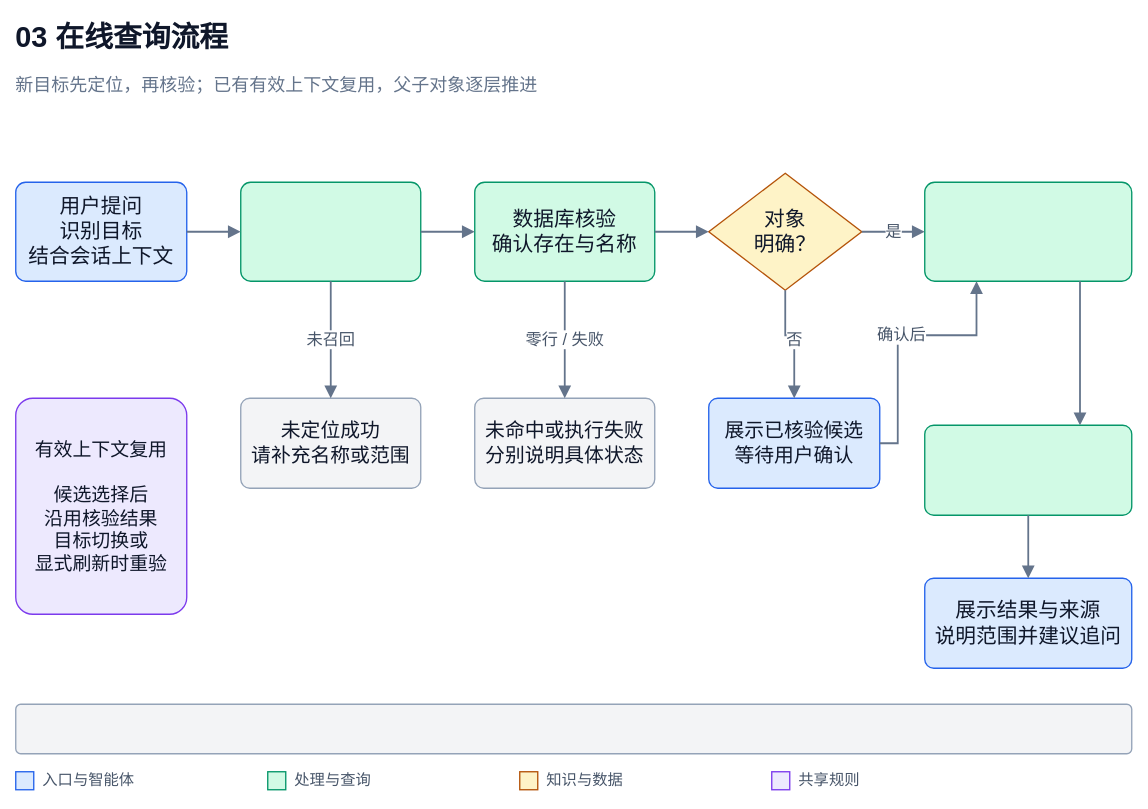
Image size: 1148x809. Some labels were removed from this diagram. The shapes that lost their labels are listed below. From the top down, each one's box as (x1, y1, x2, y2) in pixels, then its label:
(240, 181, 421, 282): 知识库定位 取得候选标识
(924, 181, 1132, 282): 查询目标明细 字段 / 字典 / 码值
(924, 424, 1132, 516): 核对结果完整性 数量 / 截断 / 分页
(15, 703, 1132, 754): 退出规则：失败不解释为不存在；部分结果不称全量；同条件不重复查询，必要纠正与取页均有限执行。
